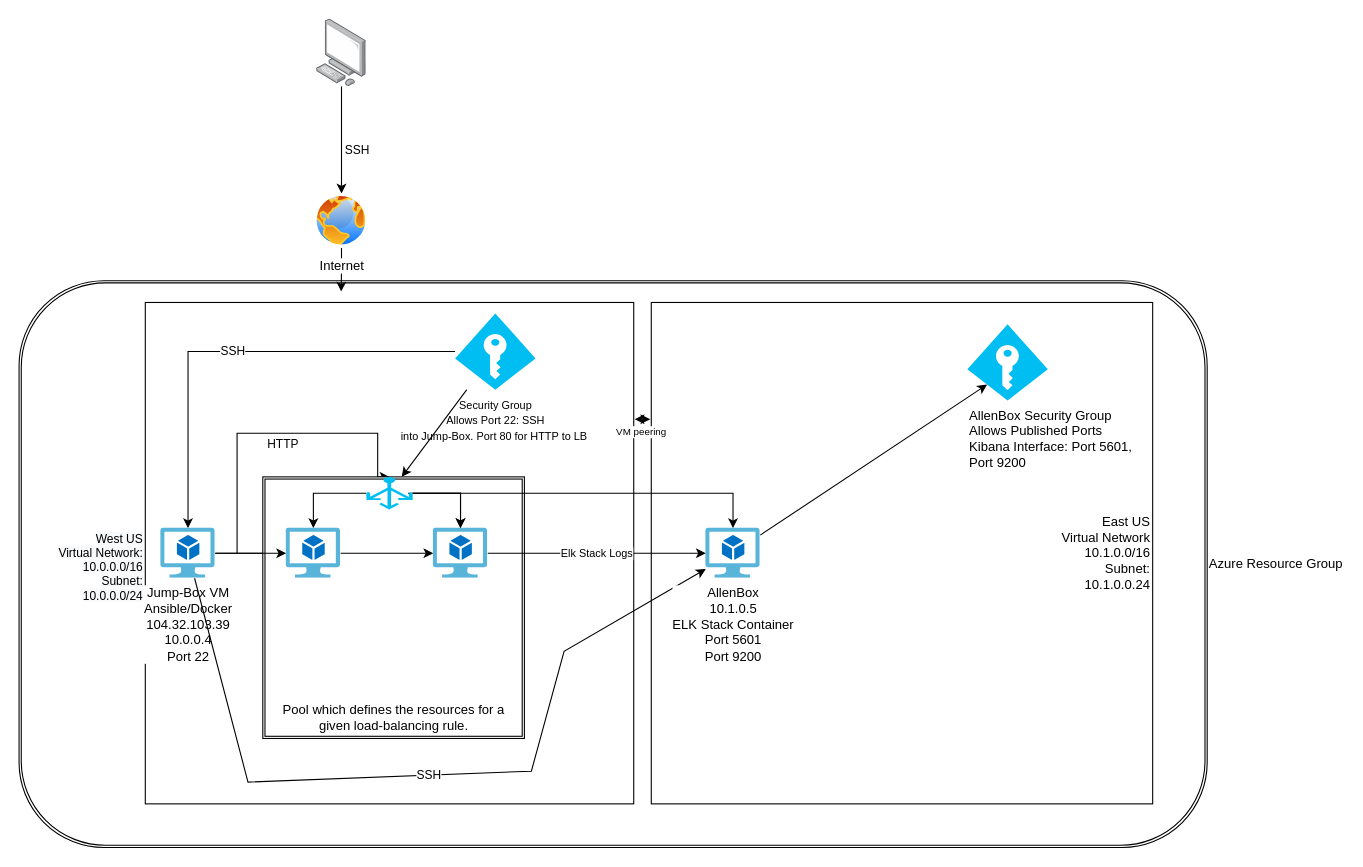
This 1363x867 diagram has some shape labels left out. The shapes that lost their labels are listed below. From the top down, each one's centre as x and y in pixels, then its label:
At (x=341, y=52): "Personal Computer".
At (x=389, y=492): "Load Balancer".
At (x=313, y=553): "Web 1 10.0.0.6 DVWA, Filebeat Metricbeat Port 80, 22".
At (x=460, y=553): "Web-2 10.0.0.7 DVWA Filebeat Metricbeat Port 80, 22".
